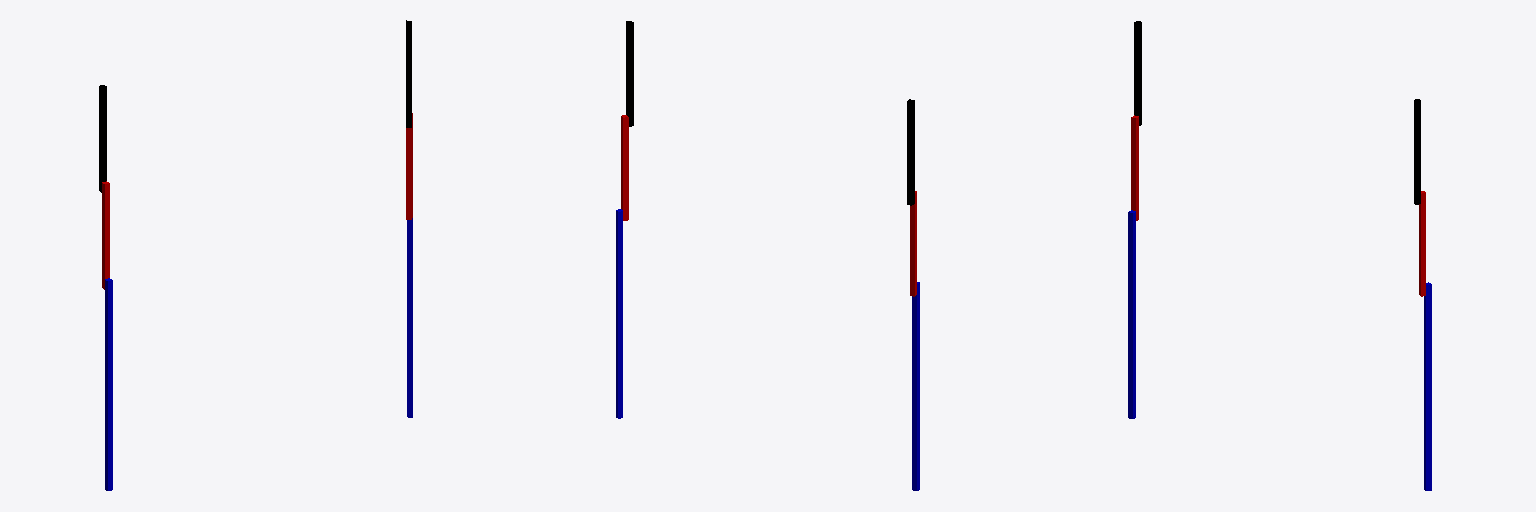
URDF robot description (rrbot):
<?xml version="1.0" ?>
<!-- =================================================================================== -->
<!-- |    This document was autogenerated by xacro from rrbot.urdf.xacro               | -->
<!-- |    EDITING THIS FILE BY HAND IS NOT RECOMMENDED                                 | -->
<!-- =================================================================================== -->
<robot name="rrbot">
  <material name="black">
    <color rgba="0.0 0.0 0.0 1.0"/>
  </material>
  <material name="blue">
    <color rgba="0.0 0.0 0.8 1.0"/>
  </material>
  <material name="green">
    <color rgba="0.0 1.0 0.0 1.0"/>
  </material>
  <material name="dark_grey">
    <color rgba="0.2 0.2 0.2 1.0"/>
  </material>
  <material name="grey">
    <color rgba="0.5 0.5 0.5 1.0"/>
  </material>
  <material name="light_grey">
    <color rgba="0.8 0.8 0.8 1.0"/>
  </material>
  <material name="brown">
    <color rgba="0.54 0.27 0.07 1.0"/>
  </material>
  <material name="red">
    <color rgba="0.8 0.0 0.0 1.0"/>
  </material>
  <material name="white">
    <color rgba="1.0 1.0 1.0 1.0"/>
  </material>
  <!-- create link fixed to the "world" -->
  <link name="world"/>
  <!-- Space between top of beam and each joint -->
  <joint name="rrbot1_base_joint" type="fixed">
    <origin rpy="0 0 0" xyz="0 0 0"/>
    <parent link="world"/>
    <child link="rrbot1_base_link"/>
  </joint>
  <!-- Base Link -->
  <link name="rrbot1_base_link">
    <visual>
      <origin rpy="0 0 0" xyz="0 0 1.0"/>
      <geometry>
        <box size="0.05 0.05 2"/>
      </geometry>
      <material name="blue"/>
    </visual>
  </link>
  <joint name="rrbot1_joint1" type="continuous">
    <parent link="rrbot1_base_link"/>
    <child link="rrbot1_link1"/>
    <origin rpy="0 0 0" xyz="0 0.05 1.95"/>
    <axis xyz="0 1 0"/>
  </joint>
  <!-- Middle Link -->
  <link name="rrbot1_link1">
    <visual>
      <origin rpy="0 0 0" xyz="0 0 0.45"/>
      <geometry>
        <box size="0.05 0.05 1"/>
      </geometry>
      <material name="red"/>
    </visual>
  </link>
  <joint name="rrbot1_joint2" type="continuous">
    <parent link="rrbot1_link1"/>
    <child link="rrbot1_link2"/>
    <origin rpy="0 0 0" xyz="0 0.05 0.9"/>
    <axis xyz="0 1 0"/>
  </joint>
  <!-- Top Link -->
  <link name="rrbot1_link2">
    <visual>
      <origin rpy="0 0 0" xyz="0 0 0.45"/>
      <geometry>
        <box size="0.05 0.05 1"/>
      </geometry>
      <material name="black"/>
    </visual>
  </link>
  <joint name="rrbot1_tool_joint" type="fixed">
    <origin rpy="0 0 0" xyz="0 0 0.95"/>
    <parent link="rrbot1_link2"/>
    <child link="rrbot1_tool0"/>
  </joint>
  <!-- Tool Link -->
  <link name="rrbot1_tool0"/>
  <!-- Space between top of beam and each joint -->
  <joint name="rrbot2_base_joint" type="fixed">
    <origin rpy="0 0 10313.240312354817" xyz="3 0 0"/>
    <parent link="world"/>
    <child link="rrbot2_base_link"/>
  </joint>
  <!-- Base Link -->
  <link name="rrbot2_base_link">
    <visual>
      <origin rpy="0 0 0" xyz="0 0 1.0"/>
      <geometry>
        <box size="0.05 0.05 2"/>
      </geometry>
      <material name="blue"/>
    </visual>
  </link>
  <joint name="rrbot2_joint1" type="continuous">
    <parent link="rrbot2_base_link"/>
    <child link="rrbot2_link1"/>
    <origin rpy="0 0 0" xyz="0 0.05 1.95"/>
    <axis xyz="0 1 0"/>
  </joint>
  <!-- Middle Link -->
  <link name="rrbot2_link1">
    <visual>
      <origin rpy="0 0 0" xyz="0 0 0.45"/>
      <geometry>
        <box size="0.05 0.05 1"/>
      </geometry>
      <material name="red"/>
    </visual>
  </link>
  <joint name="rrbot2_joint2" type="continuous">
    <parent link="rrbot2_link1"/>
    <child link="rrbot2_link2"/>
    <origin rpy="0 0 0" xyz="0 0.05 0.9"/>
    <axis xyz="0 1 0"/>
  </joint>
  <!-- Top Link -->
  <link name="rrbot2_link2">
    <visual>
      <origin rpy="0 0 0" xyz="0 0 0.45"/>
      <geometry>
        <box size="0.05 0.05 1"/>
      </geometry>
      <material name="black"/>
    </visual>
  </link>
  <joint name="rrbot2_tool_joint" type="fixed">
    <origin rpy="0 0 0" xyz="0 0 0.95"/>
    <parent link="rrbot2_link2"/>
    <child link="rrbot2_tool0"/>
  </joint>
  <!-- Tool Link -->
  <link name="rrbot2_tool0"/>
</robot>

--- Facts derived from the render (not from the file) ---
Views: 3 orthographic renders of the robot side by side, from view 1: azimuth 30°, elevation 25°; view 2: azimuth 150°, elevation 25°; view 3: azimuth 330°, elevation 25°.
Robot: rrbot — 9 links, 8 joints (4 continuous, 4 fixed); root link world; default pose: all joints at 0.
Links seen in each view (by area): view 1: rrbot1_base_link, rrbot2_base_link, rrbot1_link1, rrbot1_link2, rrbot2_link1, rrbot2_link2; view 2: rrbot1_base_link, rrbot2_base_link, rrbot1_link2, rrbot2_link1, rrbot2_link2, rrbot1_link1; view 3: rrbot1_base_link, rrbot2_base_link, rrbot1_link1, rrbot1_link2, rrbot2_link2, rrbot2_link1.
Link boxes in pixels (bbox=[...]): rrbot1_base_link: bbox=[105, 278, 112, 490]; rrbot2_base_link: bbox=[407, 218, 412, 417]; rrbot1_link1: bbox=[102, 181, 109, 289]; rrbot1_link2: bbox=[99, 85, 106, 192]; rrbot2_link1: bbox=[406, 113, 412, 219]; rrbot2_link2: bbox=[406, 20, 411, 127]; rrbot1_base_link: bbox=[912, 282, 919, 490]; rrbot2_base_link: bbox=[616, 209, 622, 418]; rrbot1_link2: bbox=[907, 99, 914, 205]; rrbot2_link1: bbox=[621, 115, 628, 220]; rrbot2_link2: bbox=[626, 21, 633, 126]; rrbot1_link1: bbox=[910, 191, 916, 296]; rrbot1_base_link: bbox=[1128, 210, 1135, 418]; rrbot2_base_link: bbox=[1424, 282, 1431, 490]; rrbot1_link1: bbox=[1131, 115, 1138, 220]; rrbot1_link2: bbox=[1134, 21, 1141, 125]; rrbot2_link2: bbox=[1414, 99, 1420, 204]; rrbot2_link1: bbox=[1419, 191, 1425, 296].
Bounding box of the posed robot: 3.06 × 0.2419 × 3.8 m (x, y, z).
Geometry: primitives only (box / cylinder / sphere), no mesh files.
